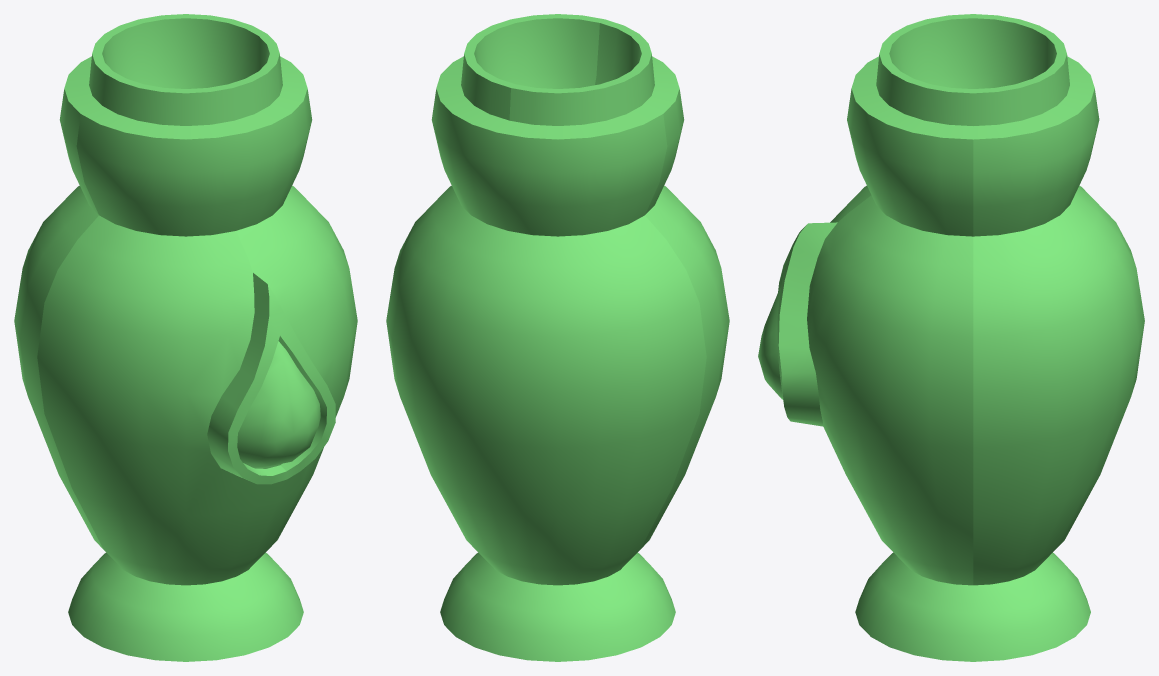
The model's file is SM_Gargoyle_Urn_Body_2.fbx.
3 renders of one model, left to right at view 1: azimuth 30°, elevation 25°; view 2: azimuth 150°, elevation 25°; view 3: azimuth 270°, elevation 25°, orthographic.
Parts seen in each view (by area): view 1: SM_Gargoyle_Urn_Body_2; view 2: SM_Gargoyle_Urn_Body_2; view 3: SM_Gargoyle_Urn_Body_2.
Boxes of the visible parts, <box> form: SM_Gargoyle_Urn_Body_2: <box>14,14,357,661</box>; SM_Gargoyle_Urn_Body_2: <box>386,14,729,661</box>; SM_Gargoyle_Urn_Body_2: <box>758,14,1144,661</box>.
Size of the model in its own units: 0.247 by 0.4431 by 0.2782.
